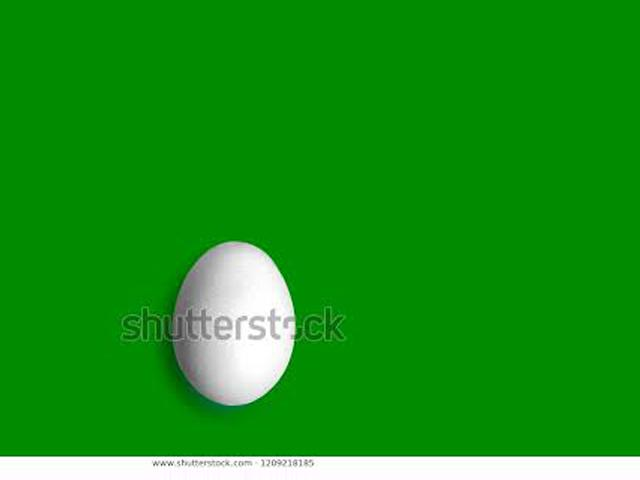egg: (171, 241, 294, 404)
